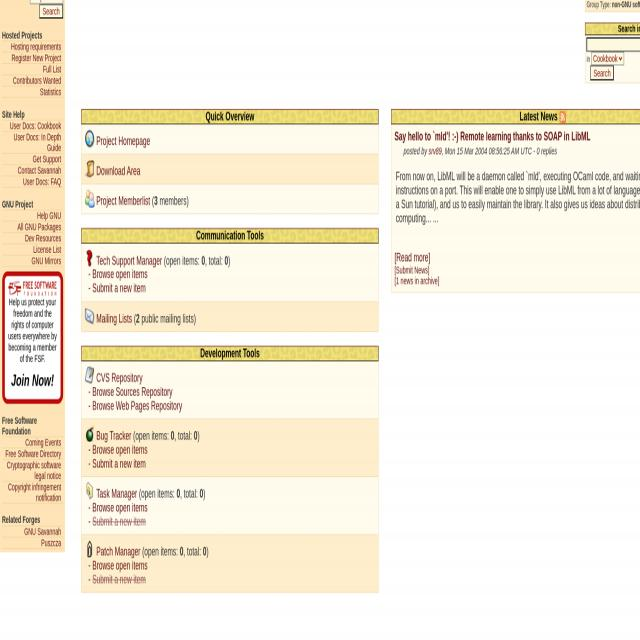button: (8, 280, 58, 298), (591, 52, 624, 64), (590, 66, 614, 81), (85, 130, 95, 148), (85, 160, 95, 178), (85, 190, 95, 208), (85, 249, 95, 267), (85, 307, 95, 325), (85, 366, 95, 384), (85, 424, 95, 442), (85, 482, 95, 500), (85, 540, 95, 558), (560, 111, 566, 123)
field: (586, 38, 640, 51), (39, 4, 63, 19)
